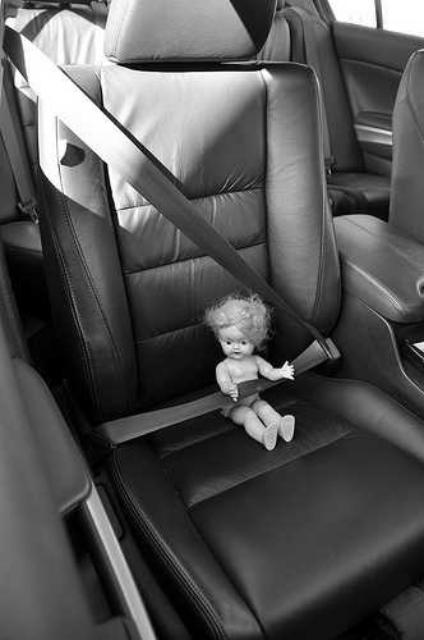Seatbelt: (1, 16, 345, 452)
